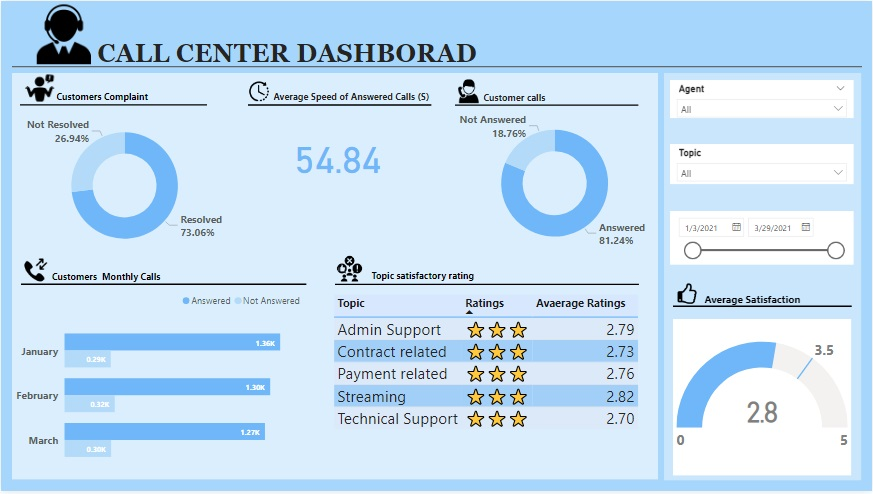

This screenshot's page, from the dashboard's own definition file:
{"tool":"powerbi","page":{"name":"Page 1","canvas":[1280,720],"ordinal":0},"visuals":[{"type":"shape","box":[16,106,950,598],"z":0},{"type":"shape","box":[975.7,105.7,290,598.6],"z":1000},{"type":"textbox","box":[137.1,44.3,1005.7,65.7],"z":2000},{"type":"donutChart","fields":{"Category":["Sheet1.Resolved"],"Y":["CountNonNull(Sheet1.Resolved)"]},"box":[37.1,155.7,290,231.4],"z":3000},{"type":"donutChart","fields":{"Category":["Sheet1.Answered (Y/N)"],"Y":["CountNonNull(Sheet1.Answered (Y/N))"]},"box":[665.7,152.9,295.7,230],"z":4000},{"type":"card","fields":{"Values":["Avg(Sheet1.Speed of answer in seconds)"]},"box":[358.6,157.3,270.7,138.9],"z":5000},{"type":"clusteredBarChart","fields":{"Category":["Sheet1.Date.Variation.Date Hierarchy.Month"],"Series":["Sheet1.Answered (Y/N)"],"Y":["CountNonNull(Sheet1.Call Id)"]},"box":[16,420,324,284],"z":6000},{"type":"gauge","fields":{"Y":["Avg(Sheet1.Satisfaction rating)"]},"box":[987.9,467.7,262.2,229.6],"z":7000},{"type":"slicer","fields":{"Values":["Sheet1.Date"]},"box":[984.3,308.6,270,78.6],"z":8000},{"type":"slicer","fields":{"Values":["Sheet1.Topic"]},"box":[984.3,210,270,58.6],"z":9000},{"type":"slicer","fields":{"Values":["Sheet1.Agent"]},"box":[984.3,115.7,270,55.7],"z":10000},{"type":"shape","box":[15.7,80,1250,34.3],"z":11000},{"type":"shape","box":[667.1,121.4,270,61.4],"z":12000},{"type":"shape","box":[32.9,121.4,270,61.4],"z":13000},{"type":"shape","box":[358.6,121.4,270,60],"z":14000},{"type":"shape","box":[30,394.3,297.1,44.3],"z":15000},{"type":"shape","box":[370,390,567.1,52.9],"z":16000},{"type":"textbox","box":[393.2,127.9,250.2,26.1],"z":17000},{"type":"textbox","box":[66,393.2,200.7,28.9],"z":18000},{"type":"textbox","box":[418,390.5,299.7,34.4],"z":19000},{"type":"textbox","box":[77,127.9,177.4,27.5],"z":20000},{"type":"textbox","box":[702.6,127.9,129.2,28.9],"z":21000},{"type":"image","box":[30,0,126,98],"z":22000},{"type":"image","box":[25.7,372.9,51.4,44.3],"z":23000},{"type":"lineChart","fields":{"Category":["Sheet1.Topic"],"Y":["Sum(Sheet1.Satisfaction rating)"]},"box":[358.6,420,602.9,284.3],"z":24000},{"type":"image","box":[30,105.7,55.7,48.6],"z":25000},{"type":"image","box":[658.6,108.6,55.7,44.3],"z":26000},{"type":"shape","box":[988.6,431.4,262.9,35.7],"z":27000},{"type":"image","box":[981.2,410,55,40],"z":28000},{"type":"textbox","box":[1029.8,423.5,180.1,38.5],"z":29000},{"type":"image","box":[354.3,360,82.9,71.4],"z":30000},{"type":"image","box":[352.9,112.9,52.9,38.6],"z":31000}]}

Visuals, with their boxes in screenshot pixels (x1, y1, x2, y2), scaled from the page's 1280x720 canvas onto the 873x494 screenshot:
shape: l=11, t=73, r=659, b=483
shape: l=665, t=73, r=863, b=483
textbox: l=94, t=30, r=779, b=75
donutChart - Sheet1.Resolved x CountNonNull(Sheet1.Resolved): l=25, t=107, r=223, b=266
donutChart - Sheet1.Answered (Y/N) x CountNonNull(Sheet1.Answered (Y/N)): l=454, t=105, r=656, b=263
card - Avg(Sheet1.Speed of answer in seconds): l=245, t=108, r=429, b=203
clusteredBarChart - Sheet1.Date.Variation.Date Hierarchy.Month x Sheet1.Answered (Y/N): l=11, t=288, r=232, b=483
gauge - Avg(Sheet1.Satisfaction rating): l=674, t=321, r=853, b=478
slicer - Sheet1.Date: l=671, t=212, r=855, b=266
slicer - Sheet1.Topic: l=671, t=144, r=855, b=184
slicer - Sheet1.Agent: l=671, t=79, r=855, b=118
shape: l=11, t=55, r=863, b=78
shape: l=455, t=83, r=639, b=125
shape: l=22, t=83, r=207, b=125
shape: l=245, t=83, r=429, b=124
shape: l=20, t=271, r=223, b=301
shape: l=252, t=268, r=639, b=304
textbox: l=268, t=88, r=439, b=106
textbox: l=45, t=270, r=182, b=290
textbox: l=285, t=268, r=489, b=292
textbox: l=53, t=88, r=174, b=107
textbox: l=479, t=88, r=567, b=108
image: l=20, t=0, r=106, b=67
image: l=18, t=256, r=53, b=286
lineChart - Sheet1.Topic x Sum(Sheet1.Satisfaction rating): l=245, t=288, r=656, b=483
image: l=20, t=73, r=58, b=106
image: l=449, t=75, r=487, b=105
shape: l=674, t=296, r=854, b=320
image: l=669, t=281, r=707, b=309
textbox: l=702, t=291, r=825, b=317
image: l=242, t=247, r=298, b=296
image: l=241, t=77, r=277, b=104
